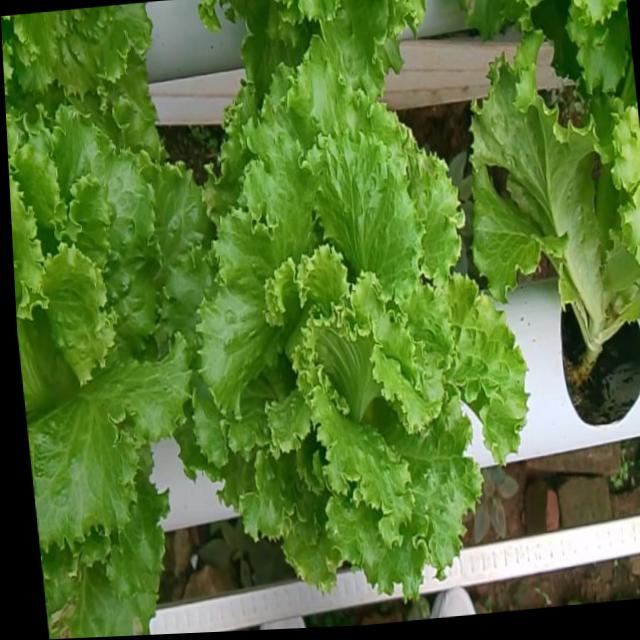Mature: (193, 67, 526, 600), (9, 111, 210, 559)
